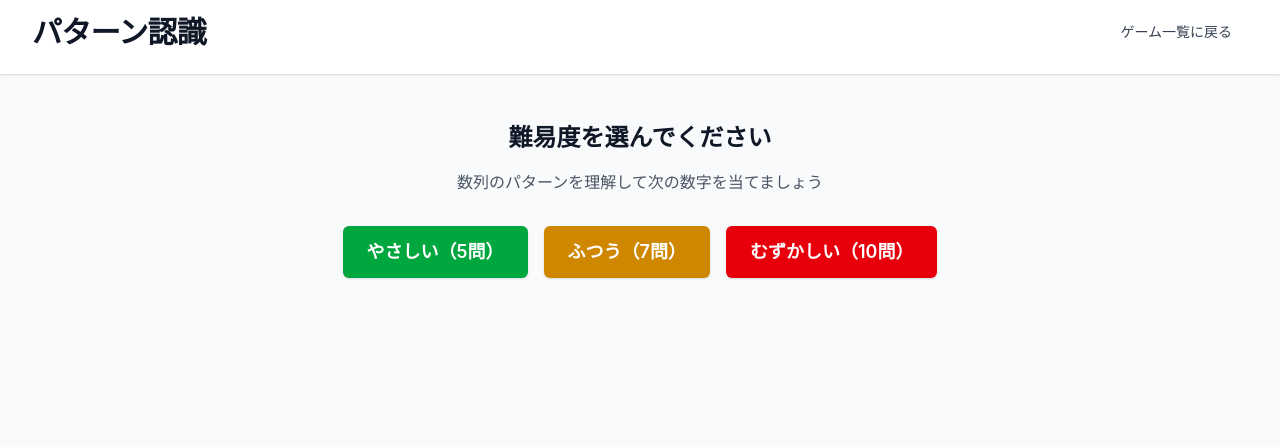
Test: PatternGame › should show pattern sequence when playing
This screenshot has width=1280, height=447.
Click the button "やさしい（5問）".
click(435, 252)  # box [342, 226, 528, 278]
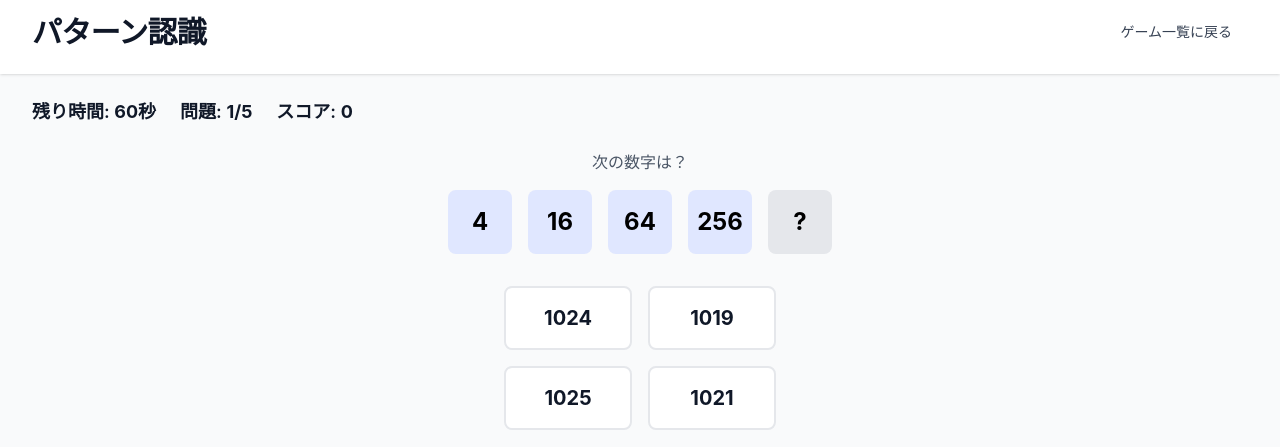
Expected: the text "次の数字は？" is shown, [592, 150, 688, 174]
Expected: the text "?" is shown, [768, 190, 832, 254]
